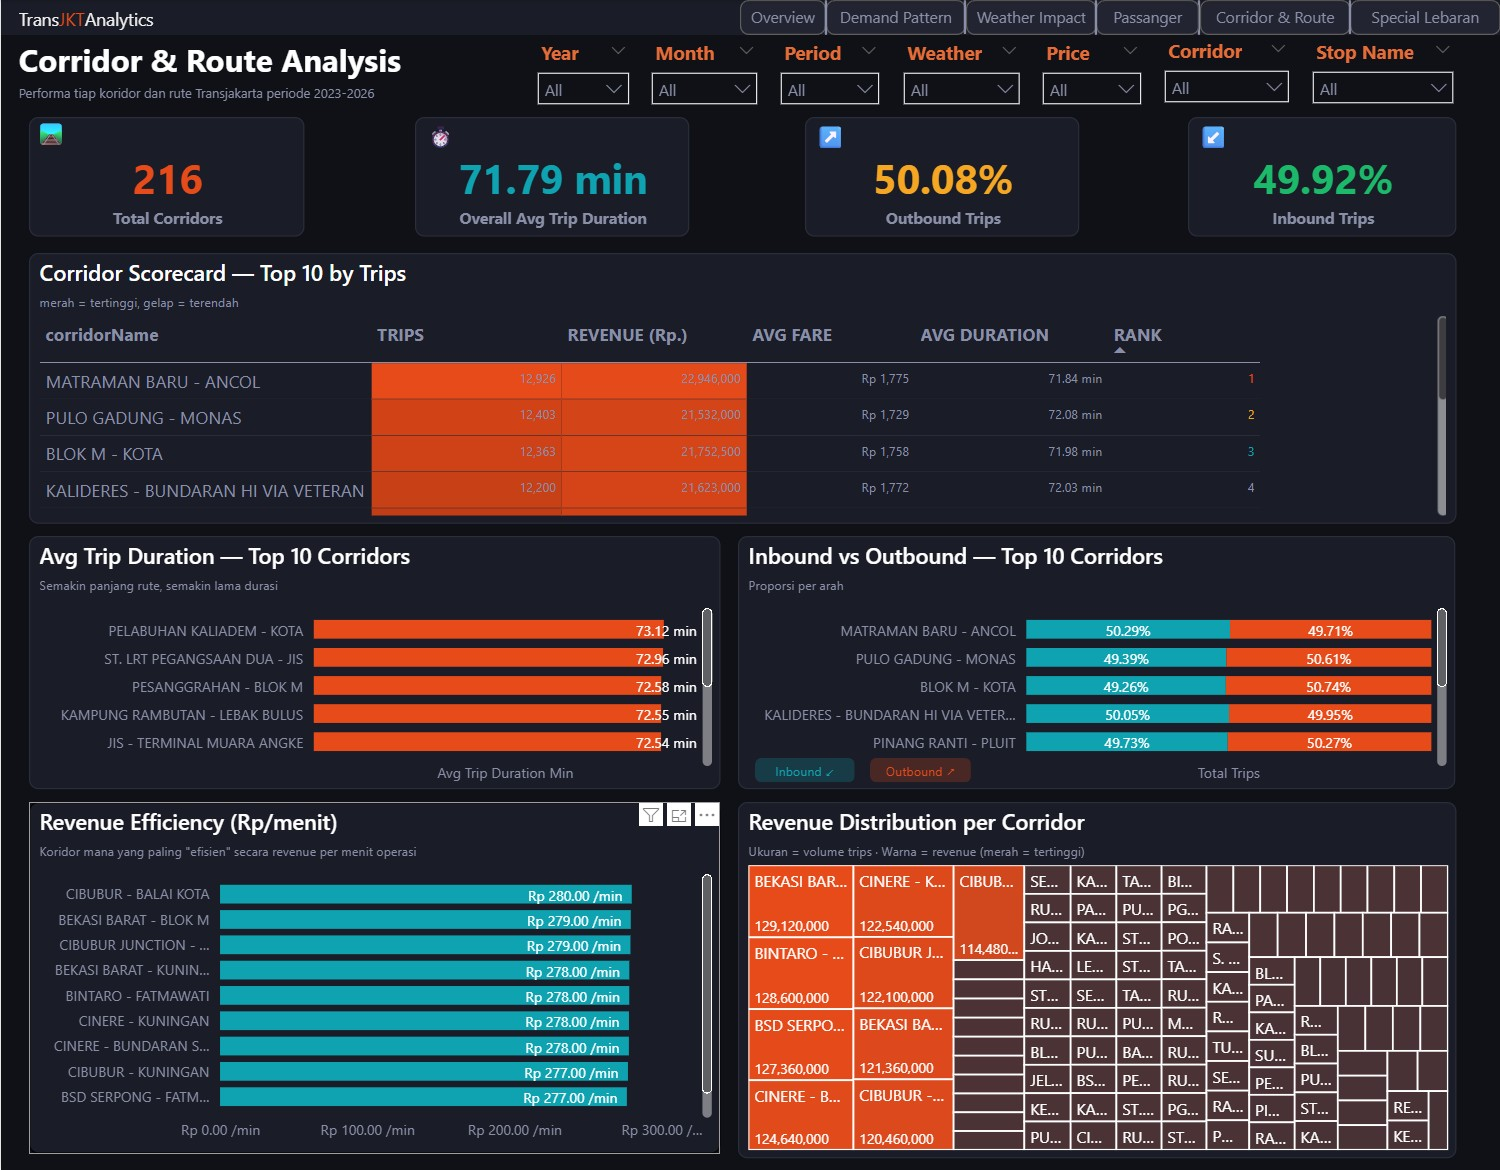

The dashboard page shown, as its layout file describes it:
{"tool":"powerbi","page":{"name":"CORRIDOR & ROUTE ANALYSIS","canvas":[1280,1000],"ordinal":4},"visuals":[{"type":"actionButton","box":[630.9,0,73.3,29.8],"z":0,"group":"g1"},{"type":"shape","box":[1002.5,0,40.9,29.8],"z":0,"group":"g3"},{"type":"hundredPercentStackedBarChart","title":"Inbound vs Outbound — Top 10 Corridors","fields":{"Category":["FACT_TRANSJAKARTA.corridorName"],"Y":["FACT_TRANSJAKARTA.Total Trips"],"Series":["FACT_TRANSJAKARTA.DirectionDesc"]},"box":[629.1,457.6,611.6,216.2],"z":0},{"type":"shape","box":[0,0,1279.9,29.9],"z":1000},{"type":"group","id":"g1","title":"Group 2","box":[630.9,0,649.1,29.8],"z":1000,"group":"g3"},{"type":"actionButton","box":[704.2,0,119.3,29.8],"z":1000,"group":"g1"},{"type":"htmlContent443BE3AD55E043BF878BED274D3A6855","fields":{"content":["FACT_TRANSJAKARTA.Navbar Brand"]},"box":[9.8,0,135.8,35.6],"z":2000},{"type":"actionButton","box":[823.5,0,111.5,29.8],"z":2000,"group":"g1"},{"type":"actionButton","box":[935,0,88.2,29.8],"z":3000,"group":"g1"},{"type":"card","title":"🛤️","fields":{"Values":["FACT_TRANSJAKARTA.Total Unique Corridors"]},"box":[23.9,99.8,234.6,101.5],"z":3000},{"type":"actionButton","box":[1023.2,0,128.4,29.8],"z":4000,"group":"g1"},{"type":"card","title":"⏱️","fields":{"Values":["FACT_TRANSJAKARTA.Avg Trip Duration Min"]},"box":[353.2,99.8,233.8,101.5],"z":4000},{"type":"actionButton","box":[1151.6,0,128.4,29.8],"z":5000,"group":"g1"},{"type":"card","title":"↗️","fields":{"Values":["FACT_TRANSJAKARTA.Outbound Trips %"]},"box":[686,99.8,233.8,101.5],"z":5000},{"type":"shape","box":[684.1,0,40.9,29.8],"z":6000,"group":"g1"},{"type":"card","title":"↙️","fields":{"Values":["FACT_TRANSJAKARTA.Inbound Trips%"]},"box":[1012.8,99.8,228.7,101.5],"z":6000},{"type":"shape","box":[802.7,0,40.9,29.2],"z":7000,"group":"g1"},{"type":"barChart","title":"Avg Trip Duration — Top 10 Corridors","fields":{"Y":["FACT_TRANSJAKARTA.Avg Trip Duration Min"],"Category":["FACT_TRANSJAKARTA.corridorName"]},"box":[24,457.6,589.8,216.2],"z":7000},{"type":"shape","box":[914.3,0,40.9,29.8],"z":8000,"group":"g1"},{"type":"textbox","box":[10,27.1,643.6,50],"z":8000},{"type":"shape","box":[1130.8,0,40.9,29.2],"z":9000,"group":"g1"},{"type":"textbox","box":[9.8,65.1,350.2,28.9],"z":9000},{"type":"shape","box":[643.3,646.6,85.2,20.8],"z":10000},{"type":"shape","box":[741.6,646.6,86.3,20.8],"z":11000},{"type":"pivotTable","title":"Corridor Scorecard — Top 10 by Trips","fields":{"Values":["FACT_TRANSJAKARTA.Total Trips","FACT_TRANSJAKARTA.Total Revenue","FACT_TRANSJAKARTA.Avg Fare per Trip","FACT_TRANSJAKARTA.Avg Trip Duration Min","FACT_TRANSJAKARTA.Corridor Trip Rank"],"Rows":["FACT_TRANSJAKARTA.corridorName"]},"box":[23.9,215.9,1217.6,231.2],"z":12000},{"type":"treemap","title":"Revenue Distribution per Corridor","fields":{"Values":["FACT_TRANSJAKARTA.Total Revenue"],"Group":["FACT_TRANSJAKARTA.corridorName"]},"box":[628.8,684.3,612.6,303.8],"z":13000},{"type":"barChart","title":"Revenue Efficiency (Rp/menit)","fields":{"Category":["FACT_TRANSJAKARTA.corridorName"],"Y":["FACT_TRANSJAKARTA.Revenue Efficiency"]},"box":[23.9,684.3,589.6,300.3],"z":14000},{"type":"group","id":"g2","title":"Group 1","box":[448,27.3,801.2,72.5],"z":15000},{"type":"slicer","fields":{"Values":["DIM_CALENDAR.Year"]},"box":[448,28.6,97.7,70.6],"z":15000,"group":"g2"},{"type":"group","id":"g3","title":"Group 3","box":[630.9,0,649.1,29.8],"z":16000},{"type":"slicer","fields":{"Values":["DIM_CALENDAR.Weekday_Weekend"]},"box":[655.6,28.6,104.4,70.6],"z":16000,"group":"g2"},{"type":"slicer","fields":{"Values":["DIM_ROUTES_SLICER.Concated Route"]},"box":[983.3,27.3,125.9,71.3],"z":17000,"group":"g2"},{"type":"slicer","fields":{"Values":["DIM_CALENDAR.MonthName"]},"box":[545.7,28.6,110,70.6],"z":18000,"group":"g2"},{"type":"slicer","fields":{"Values":["DIM_FARES.Price"]},"box":[879.3,28.6,103.8,70.6],"z":19000,"group":"g2"},{"type":"slicer","fields":{"Values":["DIM_STOPS.StopName"]},"box":[1109,28,140.1,70.6],"z":20000,"group":"g2"},{"type":"slicer","fields":{"Values":["DIM_WEATHER.isRain"]},"box":[760.1,28.6,119.2,70.6],"z":21000,"group":"g2"}]}

Visuals, with their boxes in screenshot pixels (x1, y1, x2, y2), scaled from the page's 1280x1000 canvas onto the 1500x1170 screenshot:
actionButton: x1=739, y1=0, x2=825, y2=35
shape: x1=1175, y1=0, x2=1223, y2=35
"Inbound vs Outbound — Top 10 Corridors" hundredPercentStackedBarChart: x1=737, y1=535, x2=1454, y2=788
shape: x1=0, y1=0, x2=1499, y2=35
"Group 2" group: x1=739, y1=0, x2=1499, y2=35
actionButton: x1=825, y1=0, x2=965, y2=35
htmlContent443BE3AD55E043BF878BED274D3A6855 - FACT_TRANSJAKARTA.Navbar Brand: x1=11, y1=0, x2=171, y2=42
actionButton: x1=965, y1=0, x2=1096, y2=35
actionButton: x1=1096, y1=0, x2=1199, y2=35
"🛤️" card: x1=28, y1=117, x2=303, y2=236
actionButton: x1=1199, y1=0, x2=1350, y2=35
"⏱️" card: x1=414, y1=117, x2=688, y2=236
actionButton: x1=1350, y1=0, x2=1499, y2=35
"↗️" card: x1=804, y1=117, x2=1078, y2=236
shape: x1=802, y1=0, x2=850, y2=35
"↙️" card: x1=1187, y1=117, x2=1455, y2=236
shape: x1=941, y1=0, x2=989, y2=34
"Avg Trip Duration — Top 10 Corridors" barChart: x1=28, y1=535, x2=719, y2=788
shape: x1=1071, y1=0, x2=1119, y2=35
textbox: x1=12, y1=32, x2=766, y2=90
shape: x1=1325, y1=0, x2=1373, y2=34
textbox: x1=11, y1=76, x2=422, y2=110
shape: x1=754, y1=757, x2=854, y2=781
shape: x1=869, y1=757, x2=970, y2=781
"Corridor Scorecard — Top 10 by Trips" pivotTable: x1=28, y1=253, x2=1455, y2=523
"Revenue Distribution per Corridor" treemap: x1=737, y1=801, x2=1455, y2=1156
"Revenue Efficiency (Rp/menit)" barChart: x1=28, y1=801, x2=719, y2=1152
"Group 1" group: x1=525, y1=32, x2=1464, y2=117
slicer - DIM_CALENDAR.Year: x1=525, y1=33, x2=639, y2=116
"Group 3" group: x1=739, y1=0, x2=1499, y2=35
slicer - DIM_CALENDAR.Weekday_Weekend: x1=768, y1=33, x2=891, y2=116
slicer - DIM_ROUTES_SLICER.Concated Route: x1=1152, y1=32, x2=1300, y2=115
slicer - DIM_CALENDAR.MonthName: x1=639, y1=33, x2=768, y2=116
slicer - DIM_FARES.Price: x1=1030, y1=33, x2=1152, y2=116
slicer - DIM_STOPS.StopName: x1=1300, y1=33, x2=1464, y2=115
slicer - DIM_WEATHER.isRain: x1=891, y1=33, x2=1030, y2=116
